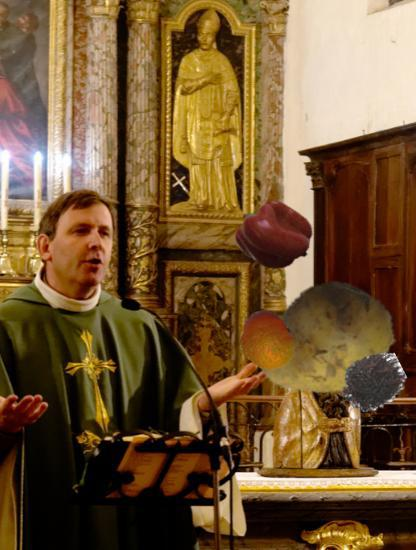Mandarine: (235, 310, 298, 373)
Pepper: (238, 199, 312, 273)
Potato: (254, 269, 397, 412)
Rambutan: (341, 351, 407, 417)
